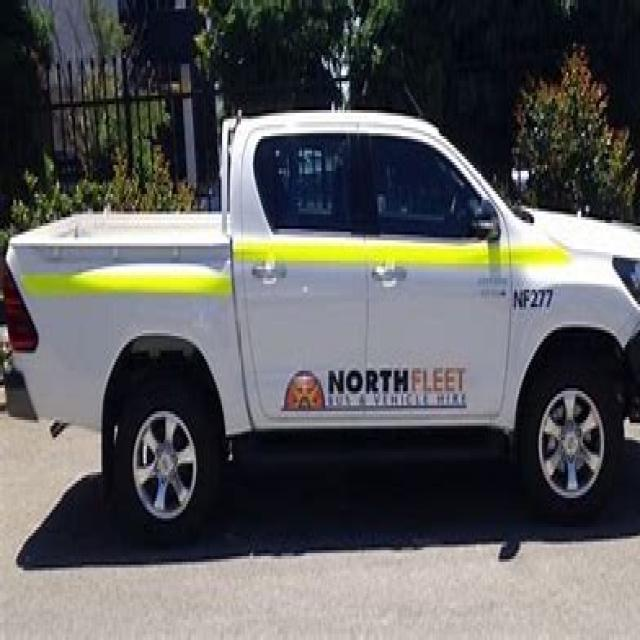light_vehicle: (15, 78, 638, 536)
